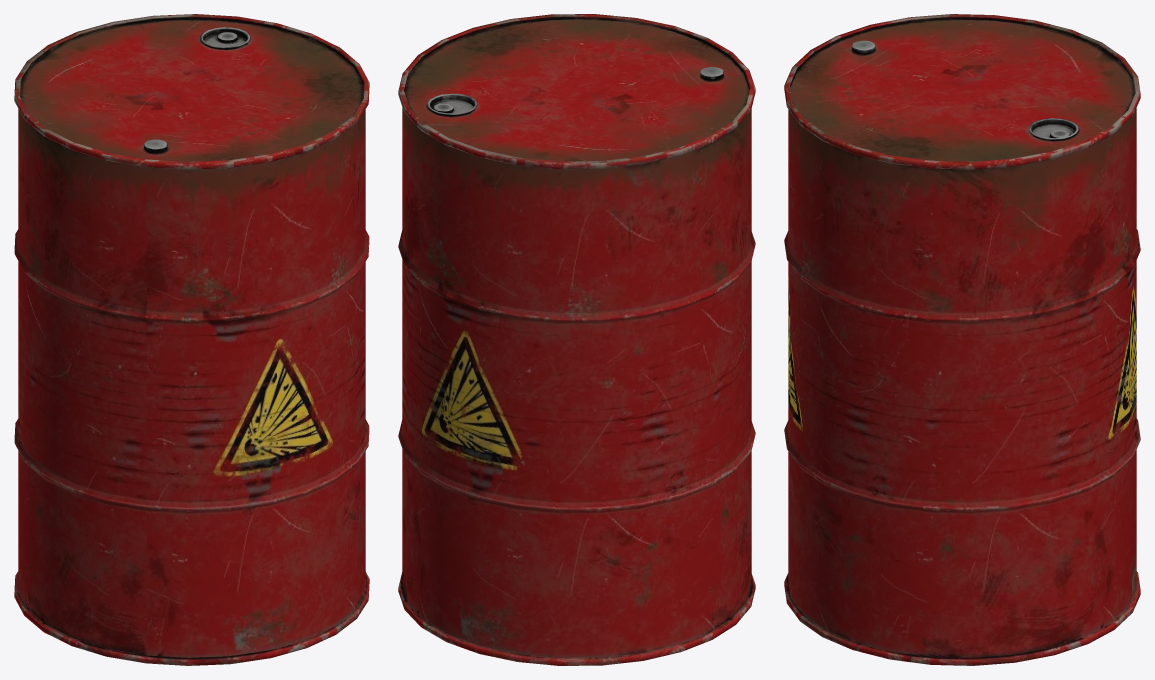
The model's file is Barrel_01.glb.
The picture shows the model from 3 angles, left to right: view 1: azimuth 30°, elevation 25°; view 2: azimuth 150°, elevation 25°; view 3: azimuth 270°, elevation 25°; orthographic projection.
Visible parts, largest first — view 1: Barrel_01; view 2: Barrel_01; view 3: Barrel_01.
Part boxes in pixels (left/top/right/bottom): Barrel_01: left=14, top=14, right=369, bottom=665; Barrel_01: left=398, top=14, right=755, bottom=665; Barrel_01: left=784, top=14, right=1140, bottom=665.
Bounding box in the file's own units: 0.563 × 0.88 × 0.563.
Materials: 1 (1 with a texture image).
